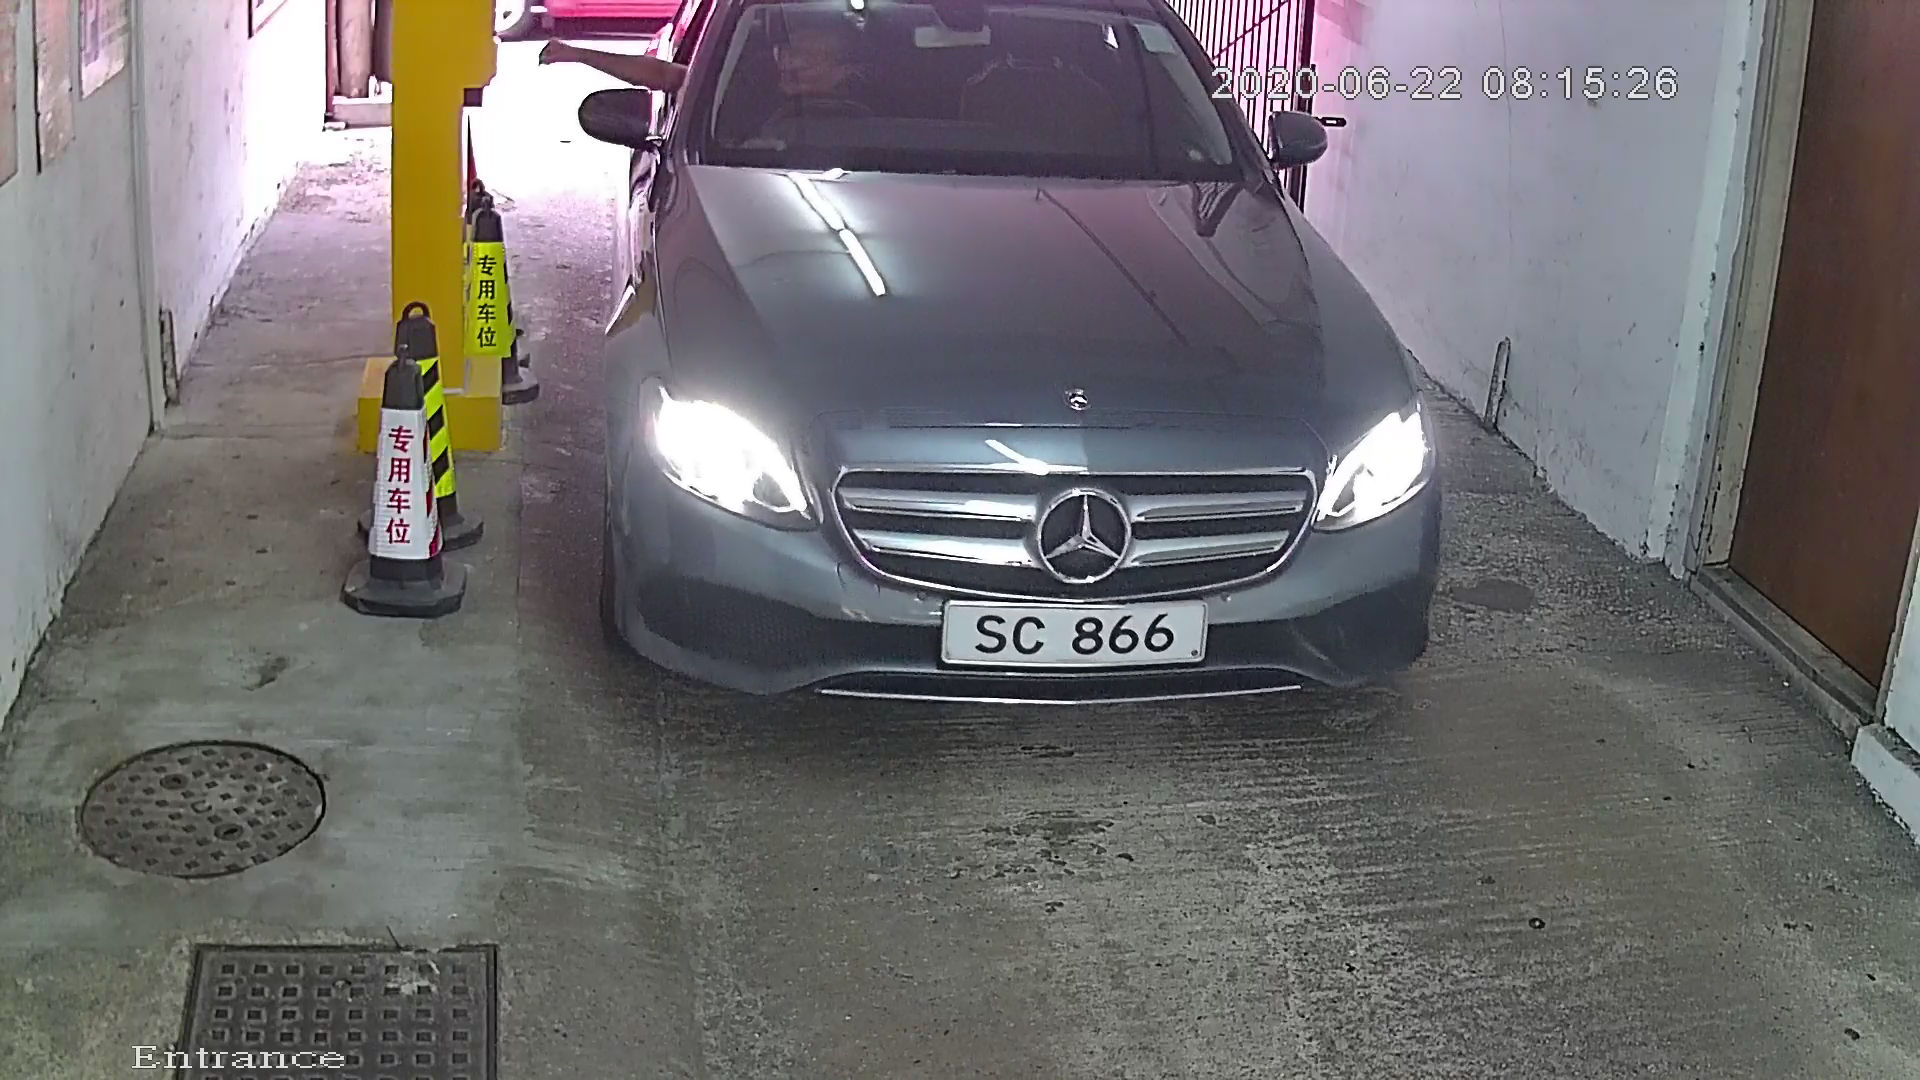privatecar: (512, 3, 1445, 769)
